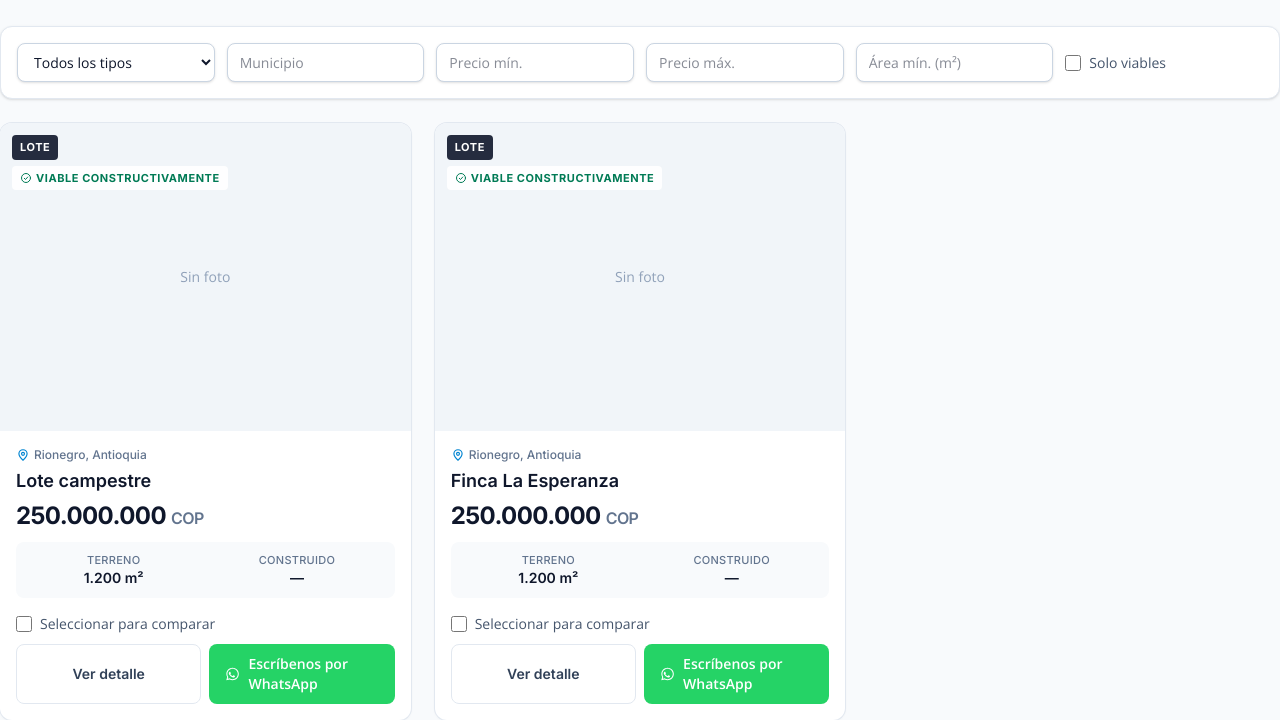
Scenario: PropertiesSection › marcar 2 propiedades para comparar habilita el link "Comparar" con sus ids en la URL
(page scrolled)
Check: the heading "Lote campestre" is shown, box [16,470,151,491]
Check: the text "seleccionadas para comparar" is not shown
Click the checkbox labelled "Seleccionar para comparar" below "Lote campestre". click: [24, 624]
box: [16,616,32,632]
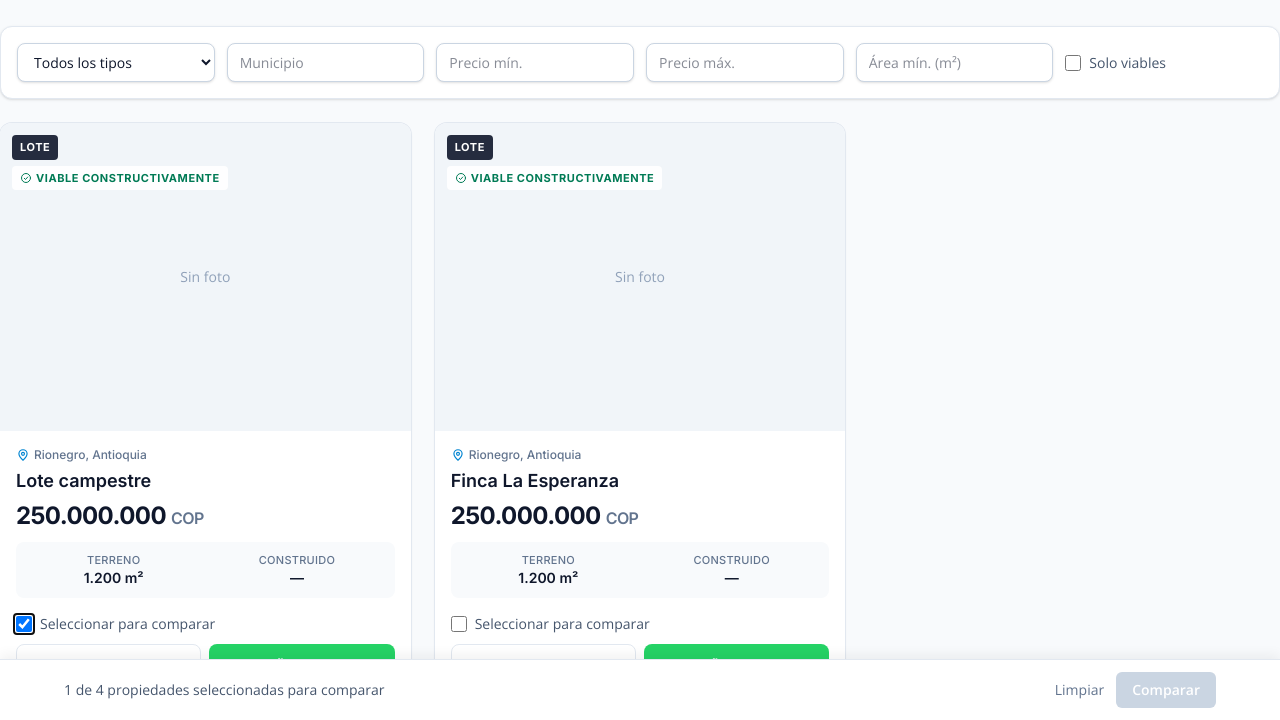
Check: the text "1 de 4 propiedades seleccionadas para comparar" is shown, box [64,680,385,700]
Check: the button "Comparar" is disabled, box [1116,672,1216,708]
Click the checkbox labelled "Seleccionar para comparar" below "Finca La Esperanza". click: [459, 624]
box: [451,616,467,632]
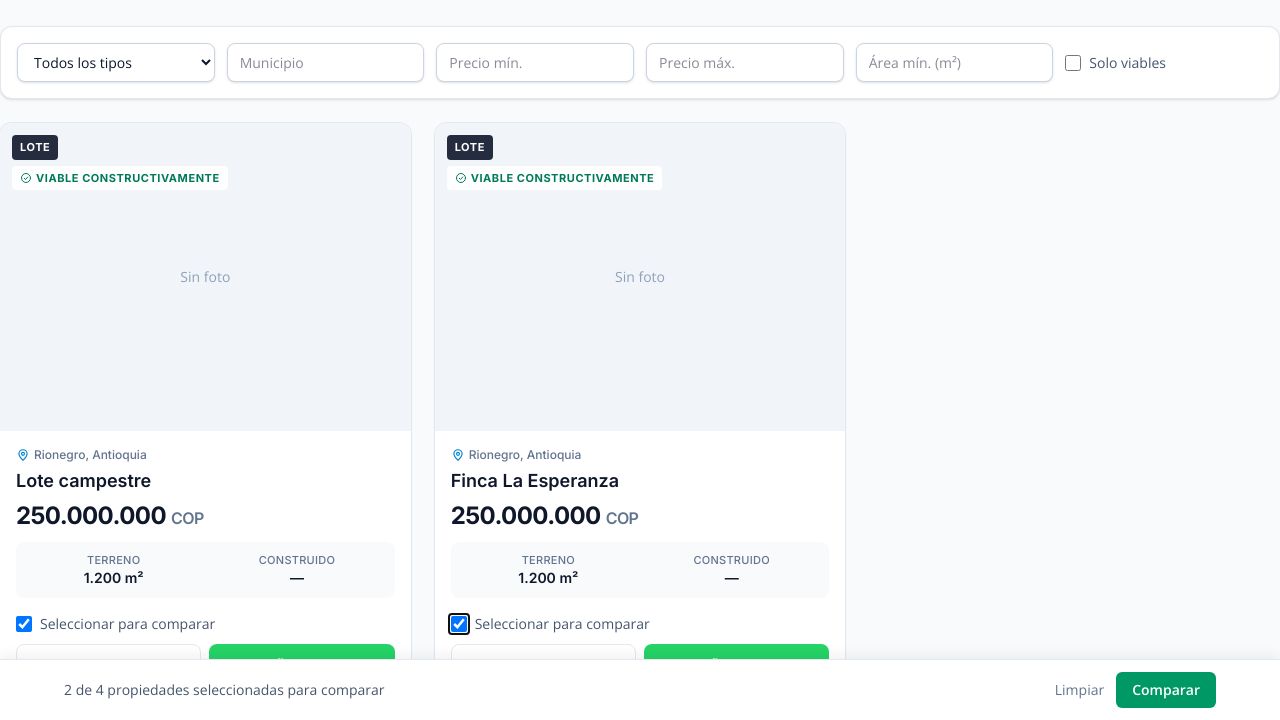
Check: the text "2 de 4 propiedades seleccionadas para comparar" is shown, box [64,680,385,700]
